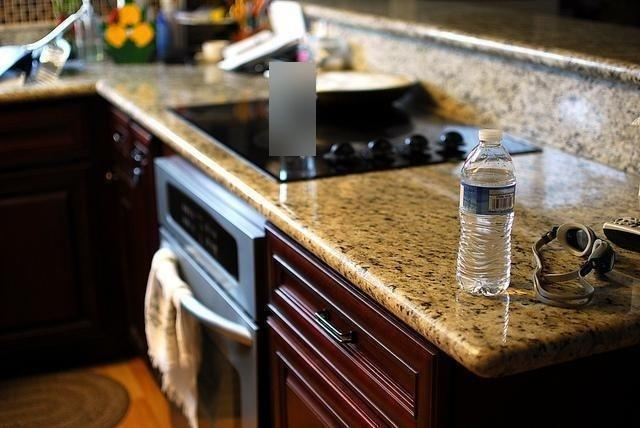bottle-plastic: (456, 131, 517, 297)
